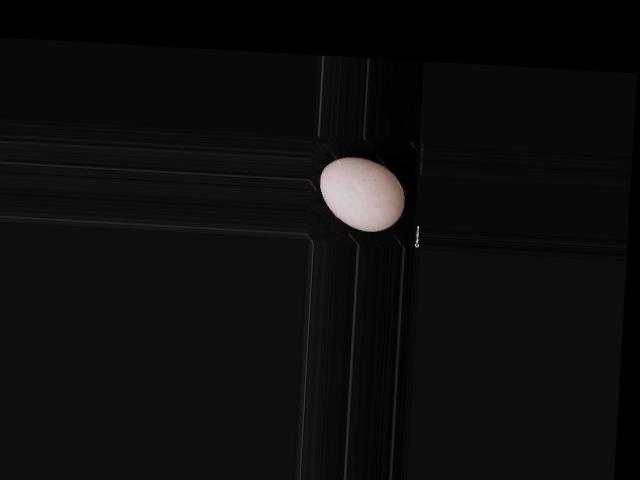egg: (317, 154, 407, 233)
